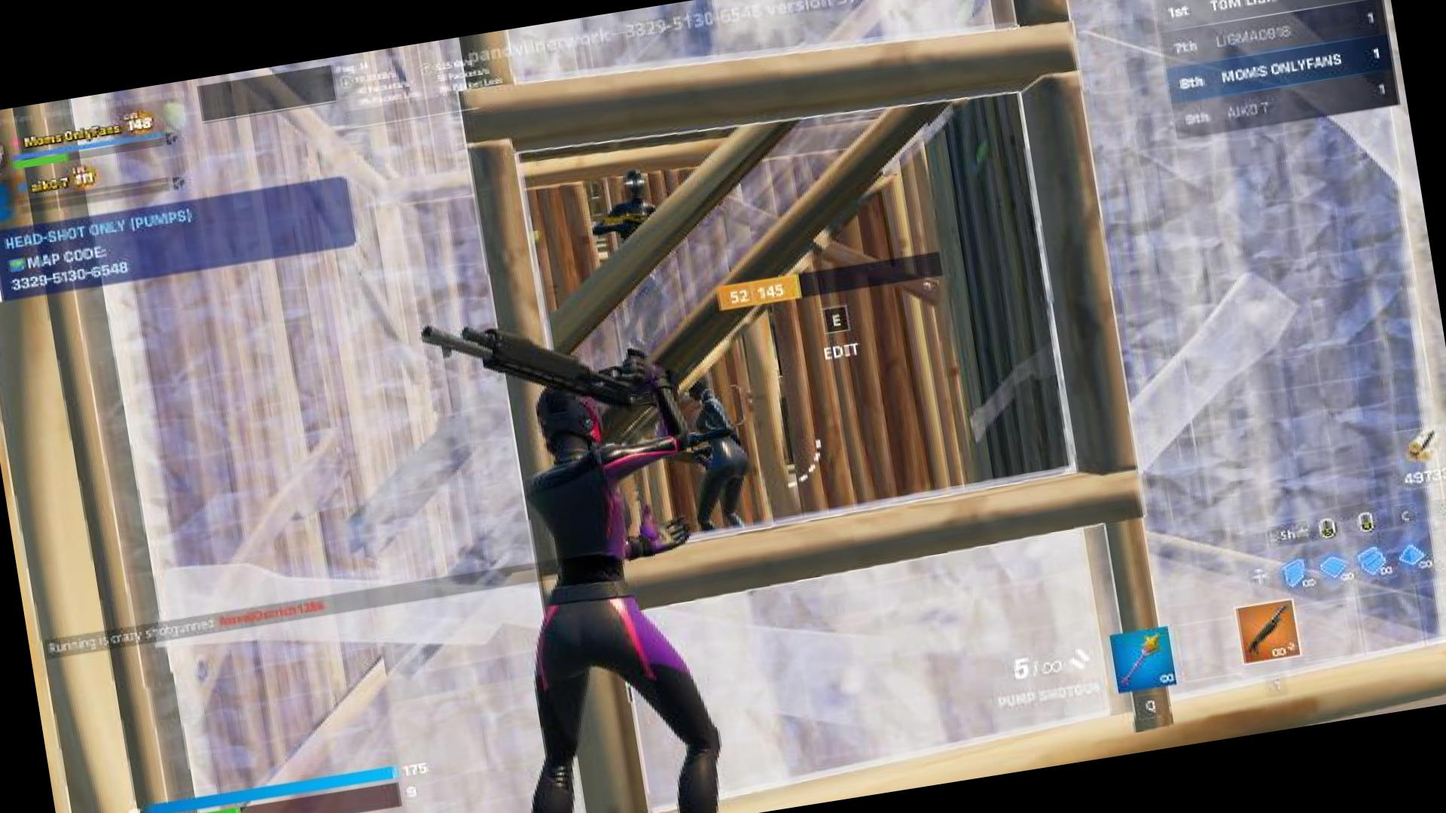player: (658, 361, 791, 543), (568, 156, 693, 245)
